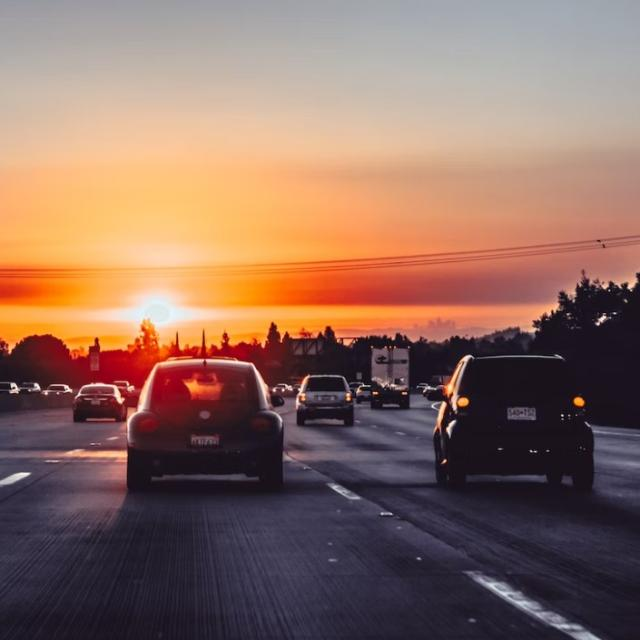car: (432, 352, 597, 488), (121, 358, 286, 483), (297, 373, 355, 426), (71, 384, 127, 424)
truck: (369, 345, 412, 410)
